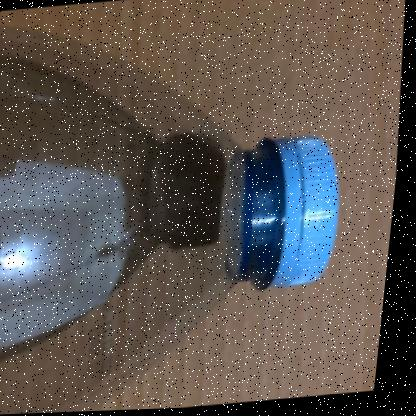bottle cap: (1, 1, 408, 416)
